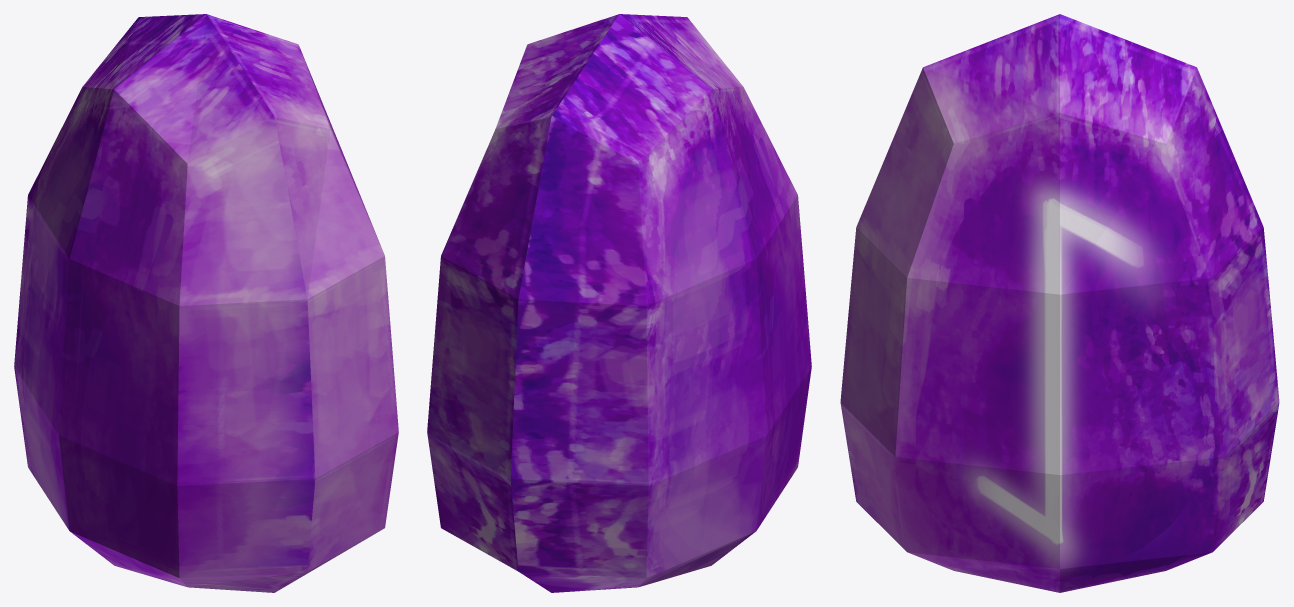
Rendered from death_pedra.fbx.
The picture shows the model from 3 angles, left to right: view 1: azimuth 30°, elevation 25°; view 2: azimuth 150°, elevation 25°; view 3: azimuth 270°, elevation 25°; orthographic projection.
Visible parts, largest first — view 1: Death_pedra; view 2: Death_pedra; view 3: Death_pedra.
Part boxes in pixels (<box>): Death_pedra: <box>14,14,398,592</box>; Death_pedra: <box>427,14,811,592</box>; Death_pedra: <box>840,14,1279,592</box>.
Size of the model in its own units: 13.71 by 24.16 by 17.51.
